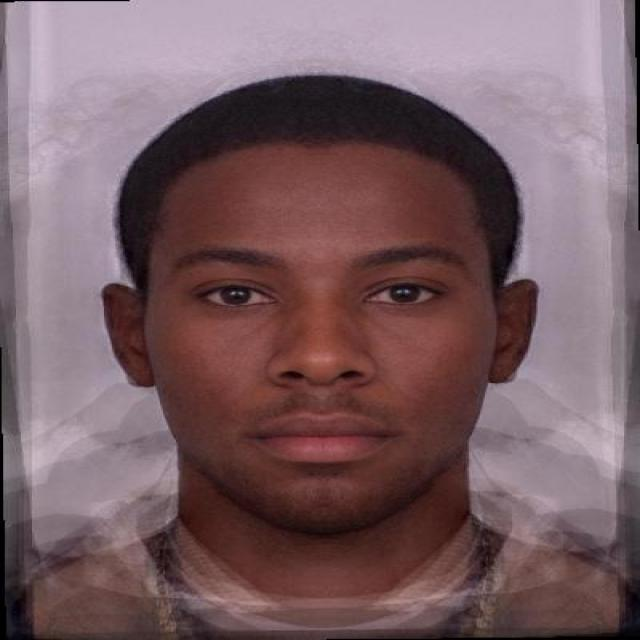earlobe: (100, 283, 154, 389), (489, 279, 539, 383)
